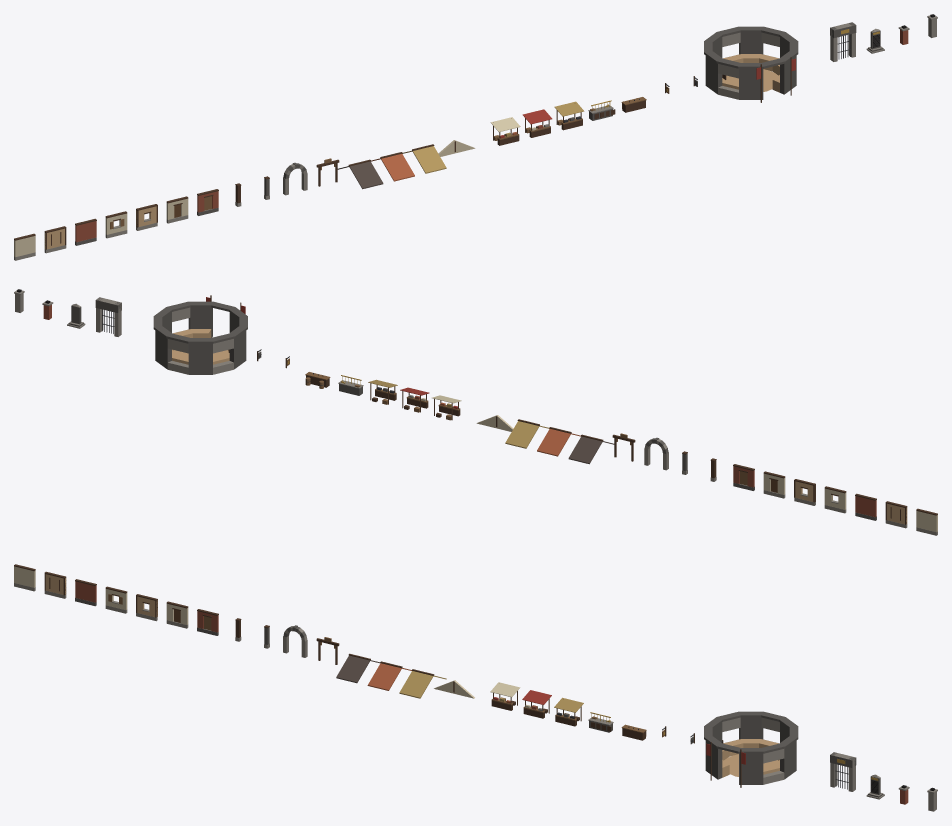
The model's file is buildings.glb.
3 views of the same model, one above another, from view 1: azimuth 30°, elevation 25°; view 2: azimuth 150°, elevation 25°; view 3: azimuth 330°, elevation 25° (orthographic).
Visible parts, largest first — view 1: pit_arena_a, pit_gate_a, roof_c, roof_a, roof_b, stall_c, stall_a, stall_b, wall_door_a, wall_plain_b; view 2: pit_arena_a, pit_gate_a, roof_c, roof_a, roof_b, wall_door_a, wall_plain_b; view 3: pit_arena_a, pit_gate_a, roof_a, roof_c, roof_b, stall_c, stall_b, stall_a, wall_door_a, wall_plain_b.
Part boxes in pixels (bbox=[...]): pit_arena_a: bbox=[704, 26, 798, 102]; pit_gate_a: bbox=[830, 22, 856, 61]; roof_c: bbox=[402, 144, 446, 173]; roof_a: bbox=[337, 159, 383, 189]; roof_b: bbox=[371, 152, 414, 181]; stall_c: bbox=[554, 101, 584, 130]; stall_a: bbox=[490, 117, 520, 145]; stall_b: bbox=[522, 109, 552, 137]; wall_door_a: bbox=[166, 196, 188, 223]; wall_plain_b: bbox=[44, 226, 66, 253]; pit_arena_a: bbox=[153, 295, 247, 374]; pit_gate_a: bbox=[95, 297, 121, 336]; roof_c: bbox=[505, 419, 549, 448]; roof_a: bbox=[568, 434, 614, 464]; roof_b: bbox=[537, 427, 580, 456]; wall_door_a: bbox=[763, 471, 785, 498]; wall_plain_b: bbox=[885, 501, 907, 528]; pit_arena_a: bbox=[704, 711, 798, 787]; pit_gate_a: bbox=[830, 752, 856, 791]; roof_a: bbox=[336, 653, 380, 683]; roof_c: bbox=[399, 669, 446, 698]; roof_b: bbox=[367, 661, 411, 690]; stall_c: bbox=[554, 697, 583, 726]; stall_b: bbox=[522, 690, 551, 718]; stall_a: bbox=[490, 682, 520, 710]; wall_door_a: bbox=[166, 601, 188, 628]; wall_plain_b: bbox=[44, 571, 66, 598].
Size of the model in its own units: 136 by 5.54 by 12.51.
1 material, 1 textured.
